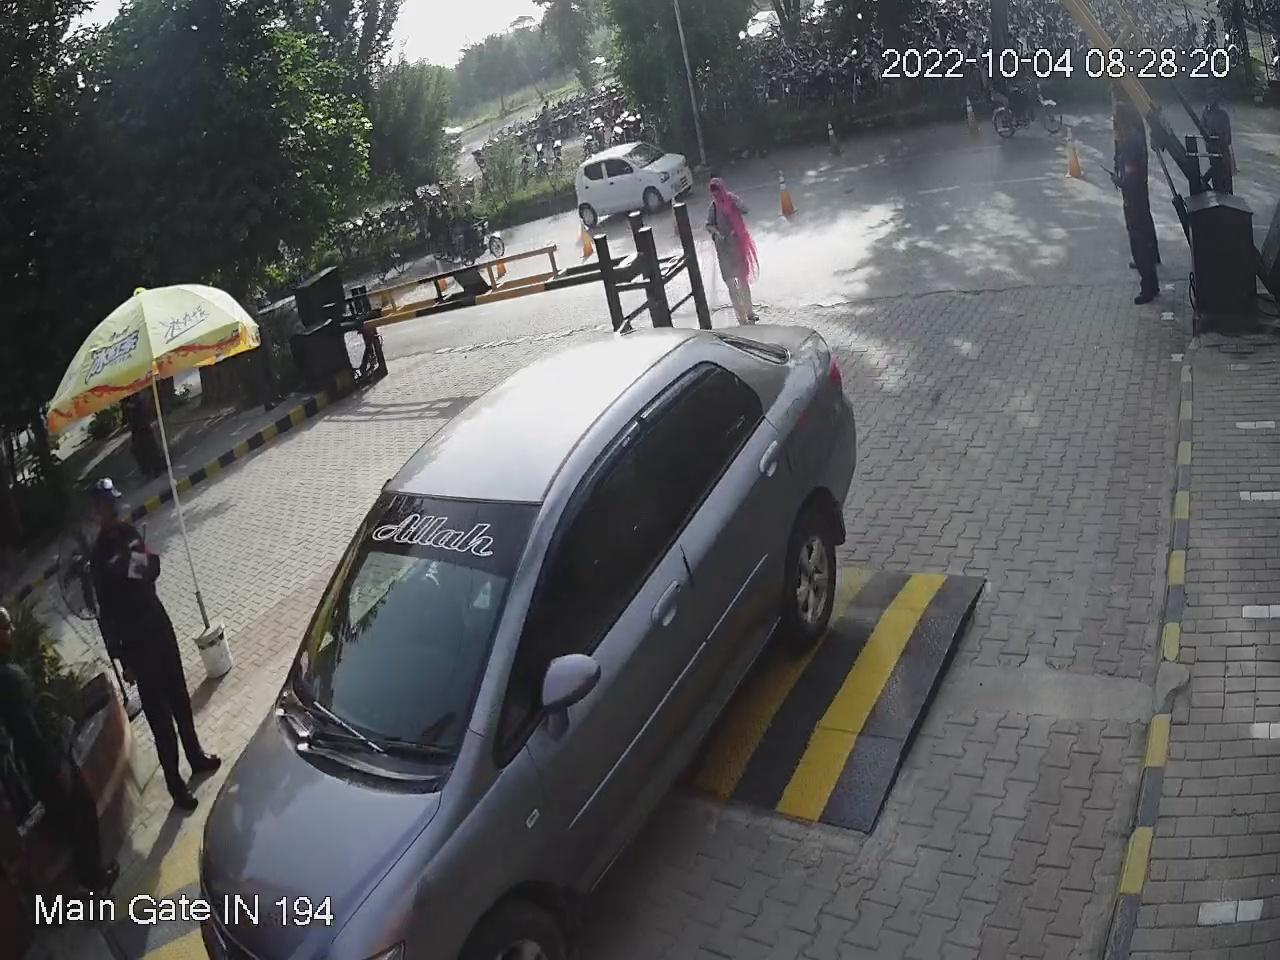windshield: (278, 497, 545, 775)
